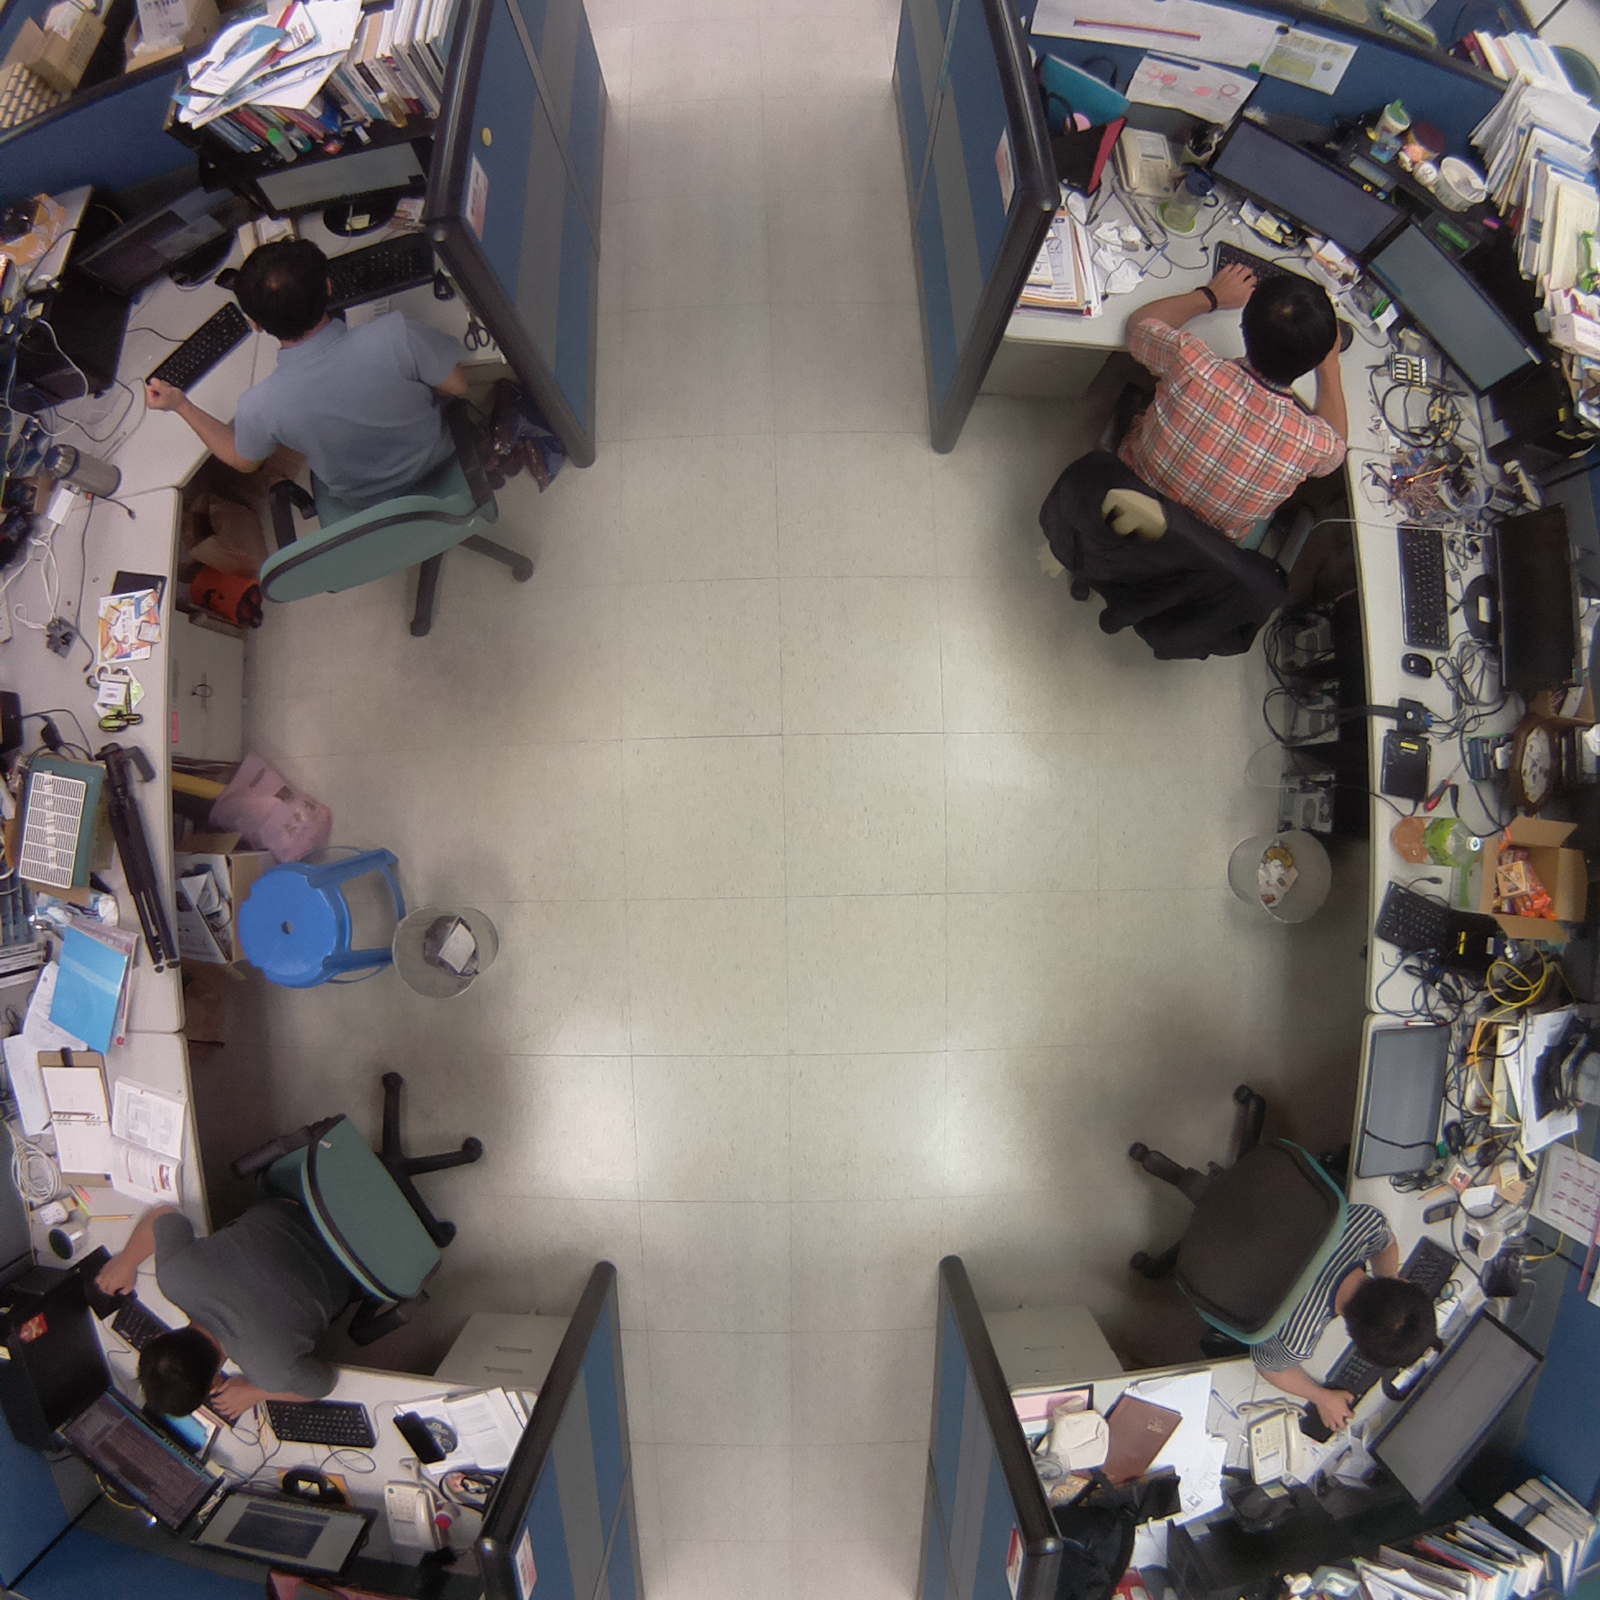head: (1236, 259, 1346, 387), (229, 226, 346, 338), (1336, 1264, 1448, 1380), (131, 1321, 226, 1425)
sitting: (78, 1050, 514, 1440), (136, 243, 545, 658), (1022, 247, 1359, 678), (1119, 1075, 1453, 1438)
